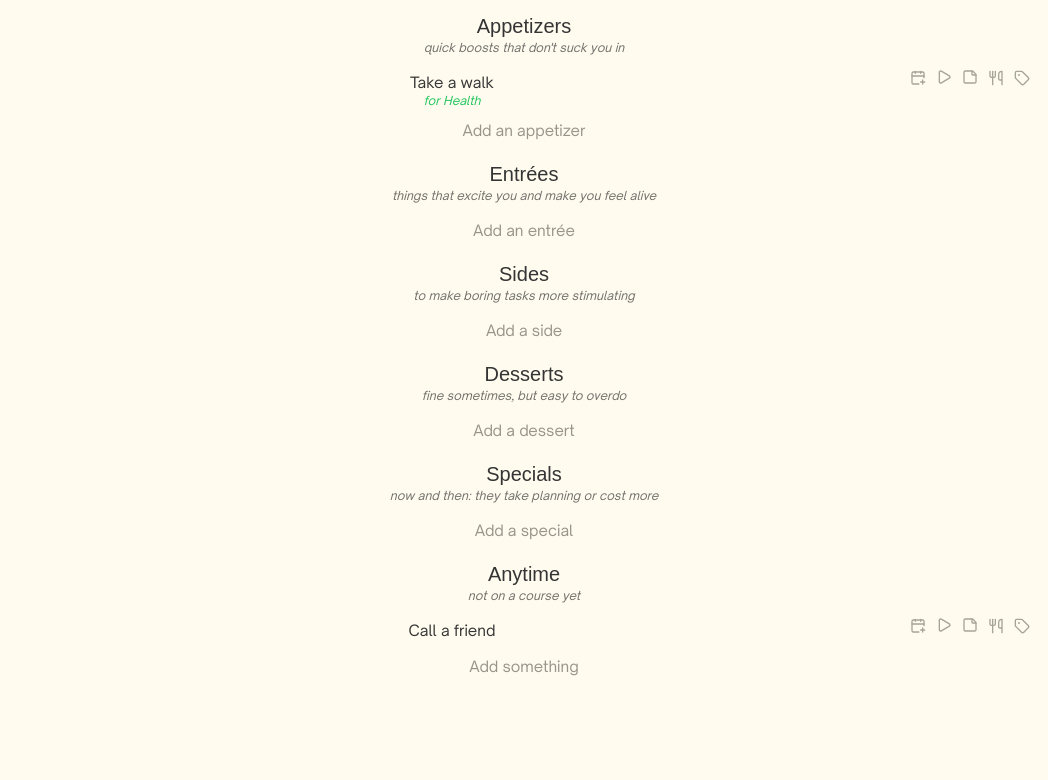
DopamineMenuList › makes a post-it from an item but keeps the item
Click the 1st button named "Make a post-it" at [970, 77], box x1=958 y1=65 x2=982 y2=89
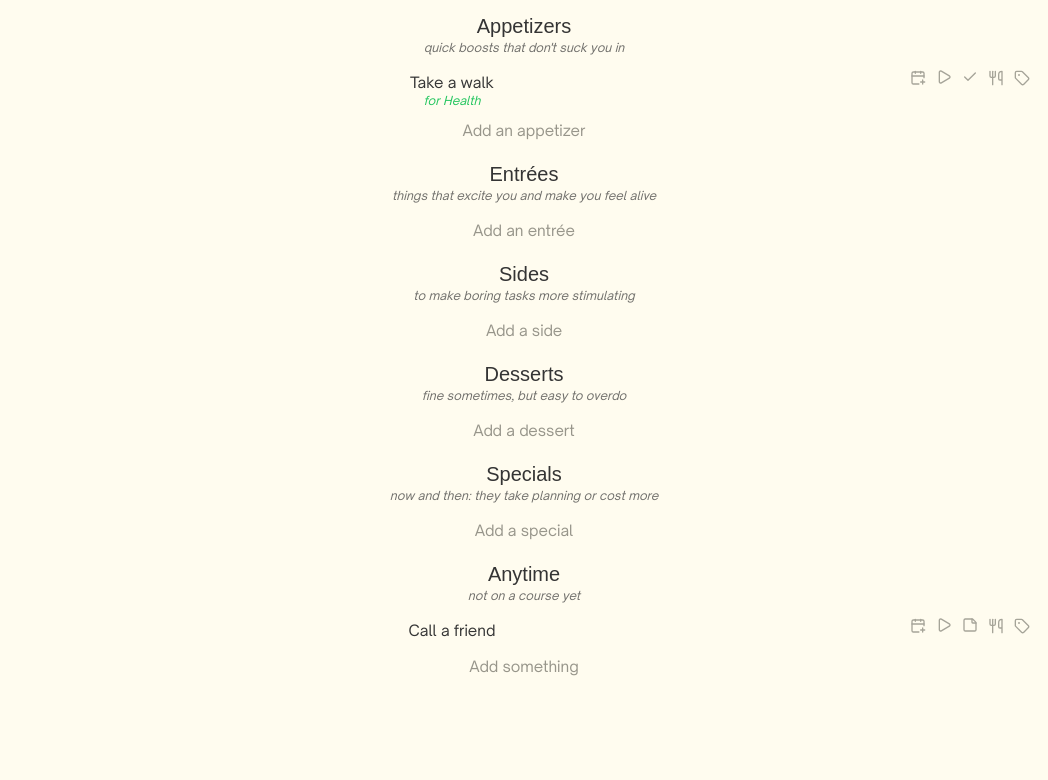
Expected: the button "Take a walk" is shown, x1=12 y1=65 x2=892 y2=101
Result: the message named "Added to post-its" is shown at x1=962 y1=69 x2=978 y2=85
